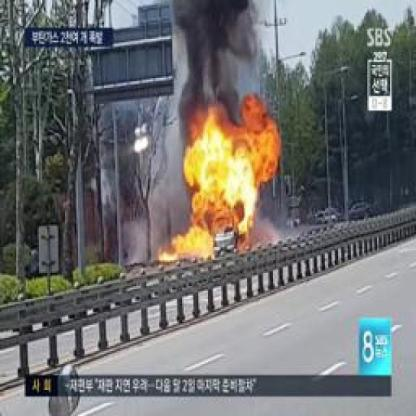fire: (186, 91, 284, 226), (154, 219, 220, 267)
